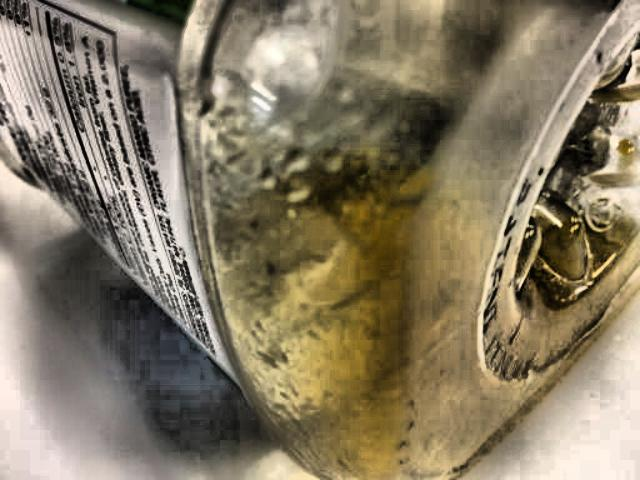Plastic: (51, 7, 629, 480)
